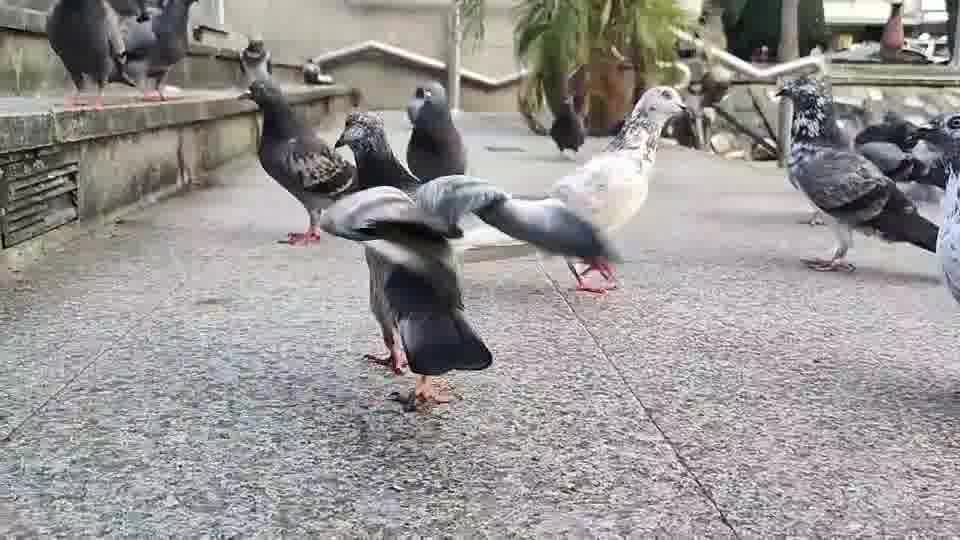Pigeon: (318, 173, 616, 405), (773, 76, 939, 273), (546, 84, 690, 292), (235, 39, 356, 247), (44, 0, 139, 111), (111, 0, 198, 101), (333, 109, 423, 194), (404, 80, 467, 182), (934, 166, 959, 305)
